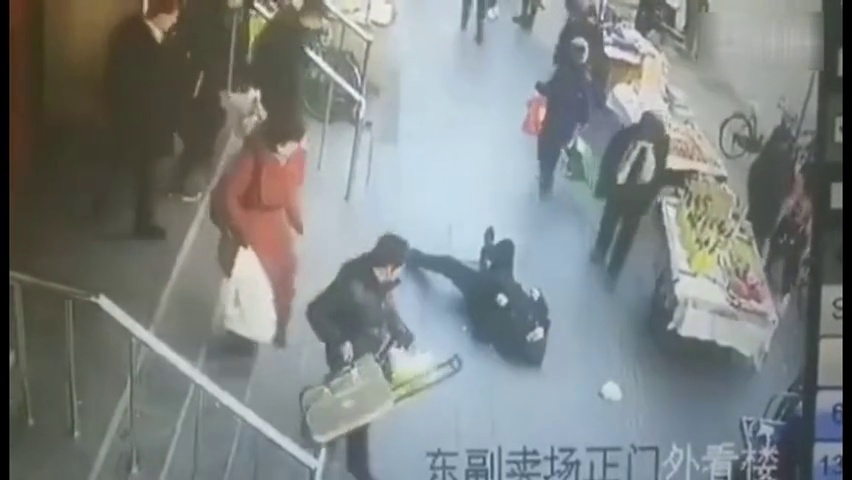fall: (407, 226, 565, 361)
nofall: (209, 111, 311, 353), (96, 1, 183, 238), (321, 236, 402, 447), (601, 93, 664, 278), (739, 126, 804, 277), (534, 37, 591, 197), (251, 1, 331, 111)
